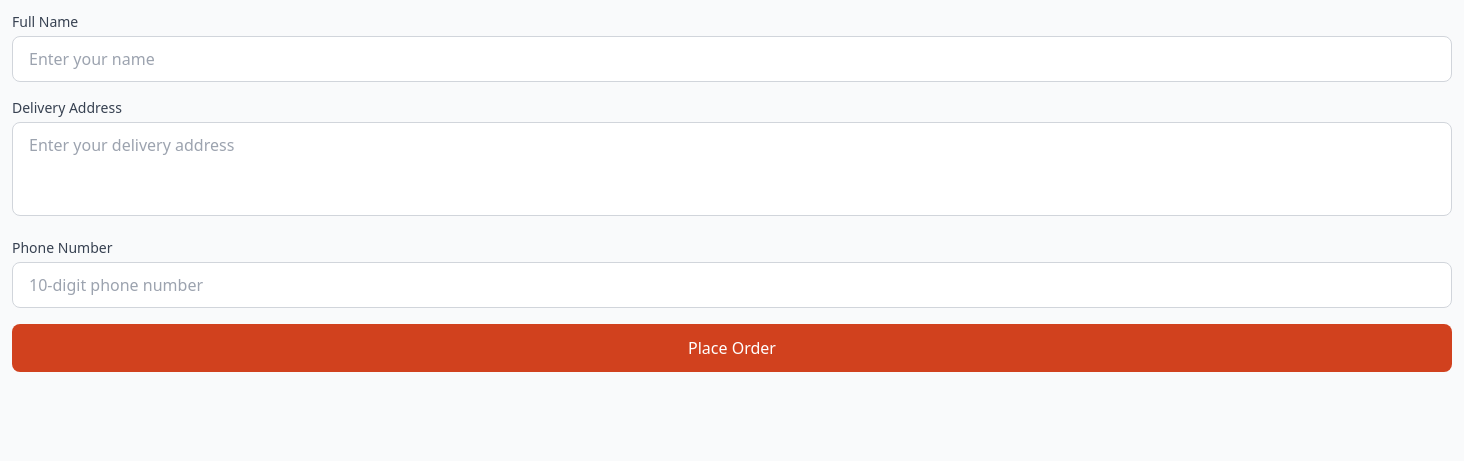
Scenario: CheckoutForm › should show error for invalid phone number
Type "123" into the field labelled "Phone Number".
click(732, 285); type("123")  # box 12,262 -> 1452,308
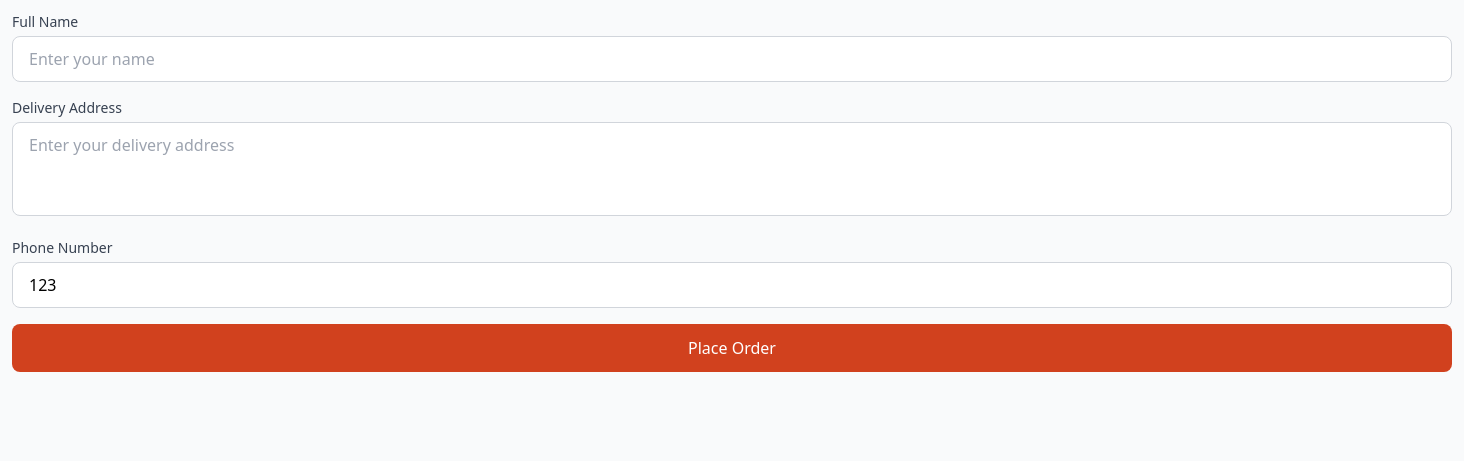
Click the button "Place Order".
click(732, 348)  # box 12,324 -> 1452,372
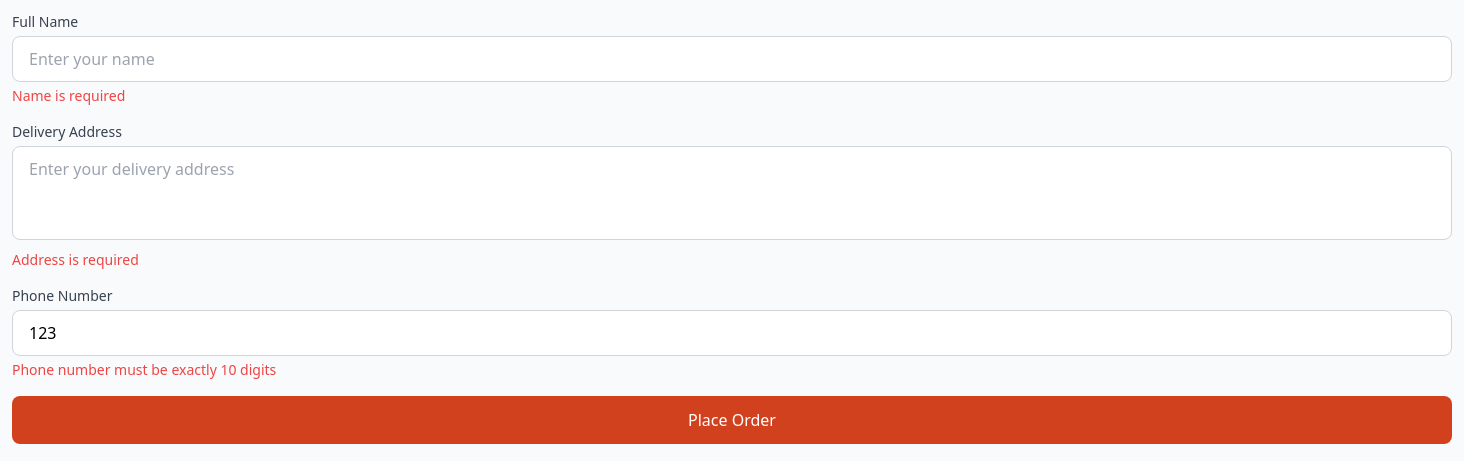
Check: the text "Phone number must be exactly 10 digits" is shown, box 12,360 -> 276,379
